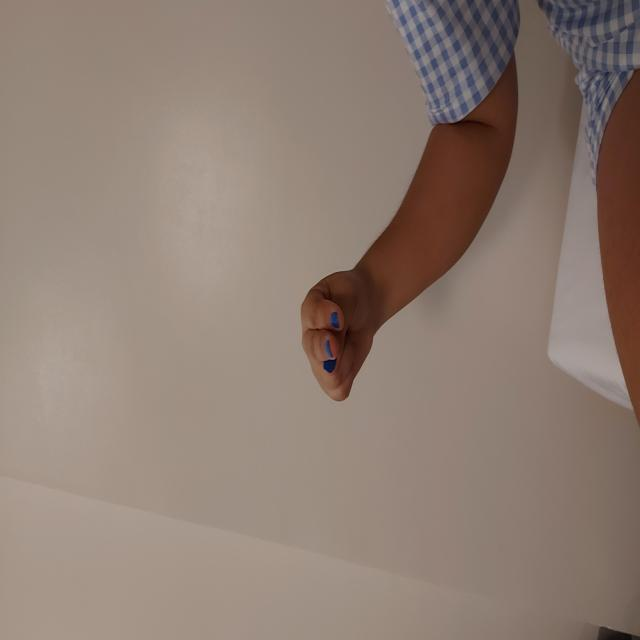N: (235, 298, 375, 376)
